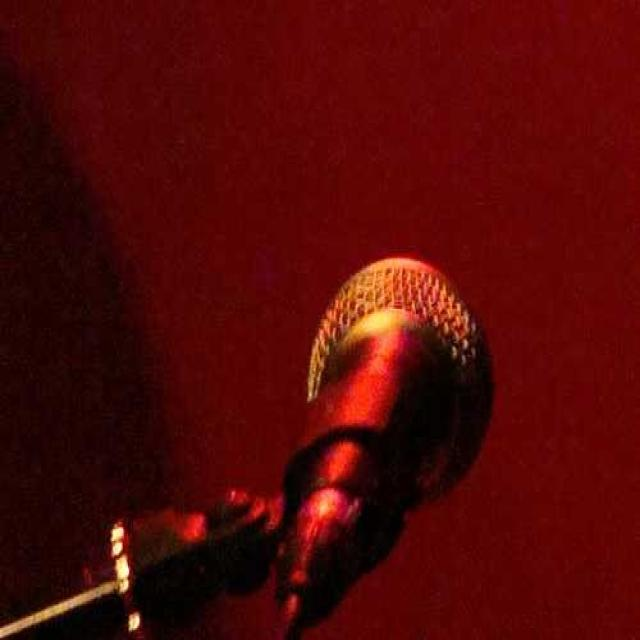microphone: (282, 247, 524, 640)
